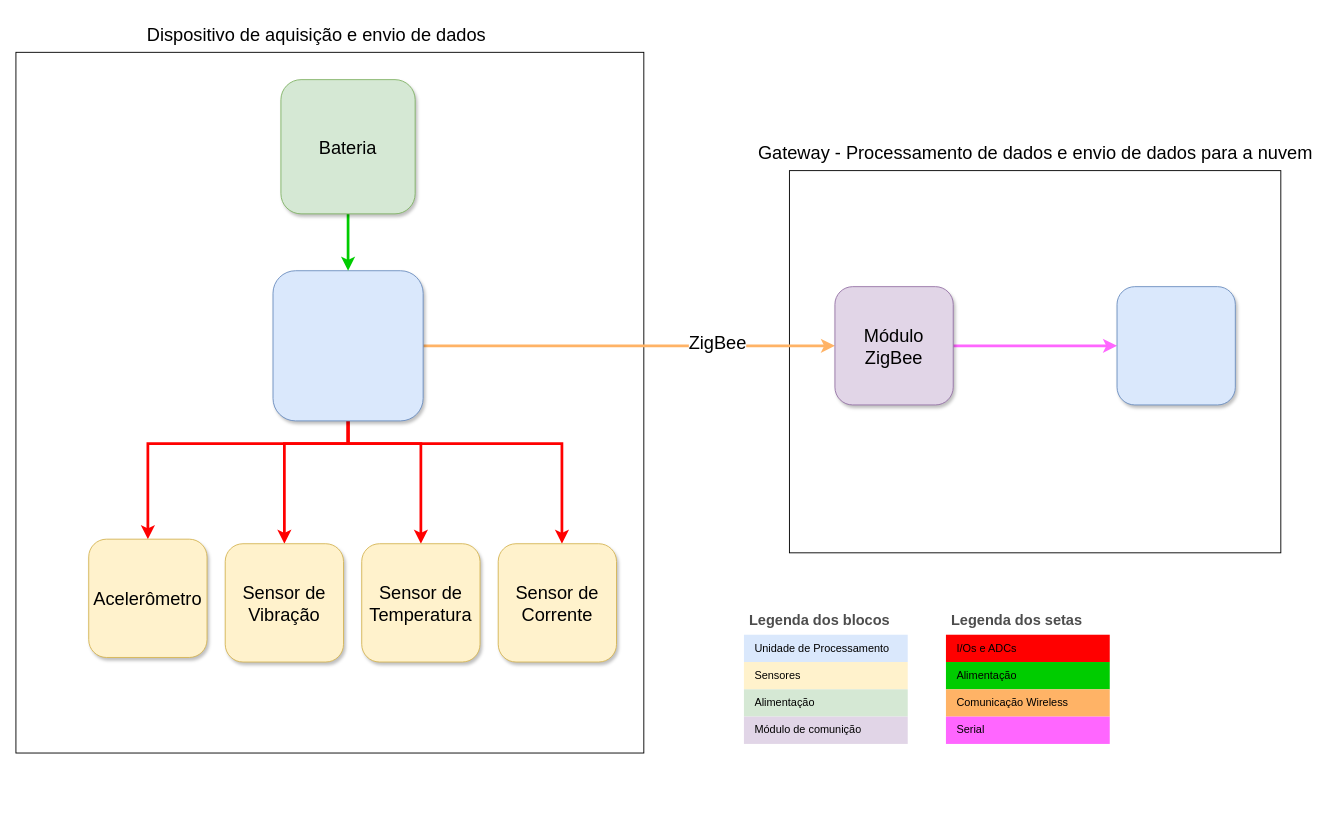
This 1338x814 diagram has some shape labels left out. The shapes that lost their labels are listed below. From the top down, each one's centre as x and y in pixels, then its label:
(348,346): ESP32-C6
(1176,346): RaspBerry Pi 4
